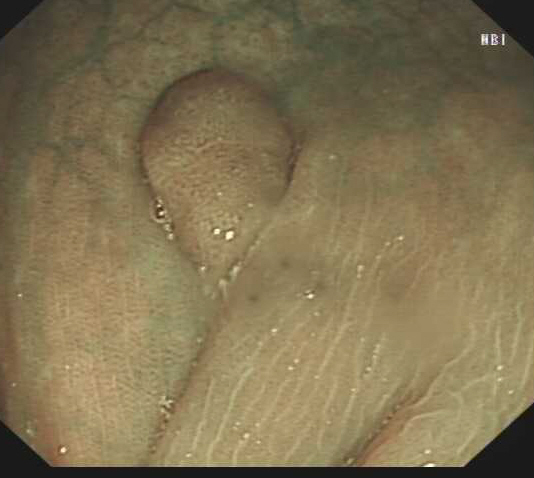adenoma: (137, 63, 297, 277)
